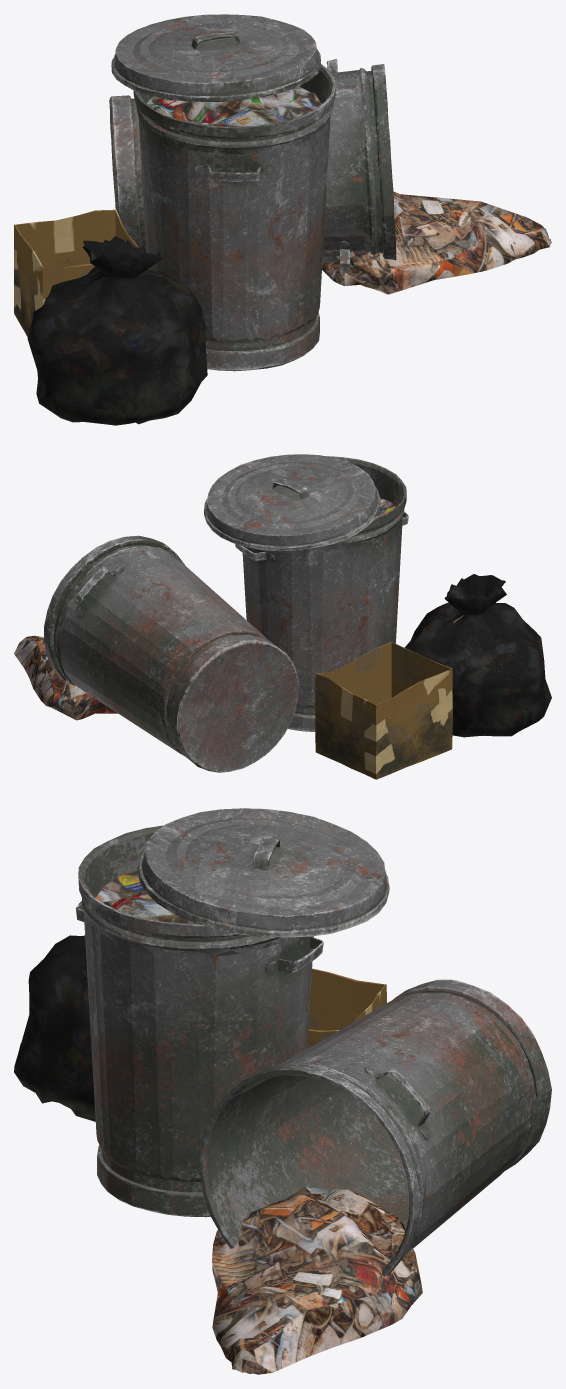
The model's file is Basura Organizada.dae.
3 views of the same model, one above another, from view 1: azimuth 30°, elevation 25°; view 2: azimuth 150°, elevation 25°; view 3: azimuth 270°, elevation 25° (orthographic). The views are drawn at different scales.
Parts seen in each view (by area): view 1: POTE.004, BOLSA DE BASURA MEDIANA.002, POTE.001, TAPA.003, BASURA1.001, CAJA PEQUEÑA.002, BASURA2.001; view 2: POTE.001, POTE.004, CAJA PEQUEÑA.002, BOLSA DE BASURA MEDIANA.002, TAPA.003, BASURA1.001; view 3: POTE.001, POTE.004, BASURA1.001, TAPA.003, BOLSA DE BASURA MEDIANA.002, CAJA PEQUEÑA.002, BASURA2.001.
Part boxes in pixels (x1,y1,x2,y2): POTE.004: (133, 64, 335, 371); BOLSA DE BASURA MEDIANA.002: (27, 236, 207, 425); POTE.001: (109, 59, 396, 272); TAPA.003: (111, 14, 321, 101); BASURA1.001: (322, 191, 551, 294); CAJA PEQUEÑA.002: (14, 209, 138, 336); BASURA2.001: (147, 86, 321, 126); POTE.001: (43, 535, 298, 772); POTE.004: (235, 456, 408, 731); CAJA PEQUEÑA.002: (315, 642, 452, 779); BOLSA DE BASURA MEDIANA.002: (404, 574, 551, 737); TAPA.003: (204, 454, 380, 551); BASURA1.001: (14, 635, 117, 720); POTE.001: (199, 979, 551, 1276); POTE.004: (75, 825, 323, 1217); BASURA1.001: (212, 1186, 422, 1374); TAPA.003: (137, 808, 389, 937); BOLSA DE BASURA MEDIANA.002: (14, 901, 95, 1121); CAJA PEQUEÑA.002: (307, 968, 386, 1047); BASURA2.001: (96, 870, 198, 923).
Bounding box in the file's own units: 8.18 × 5.58 × 3.86.
